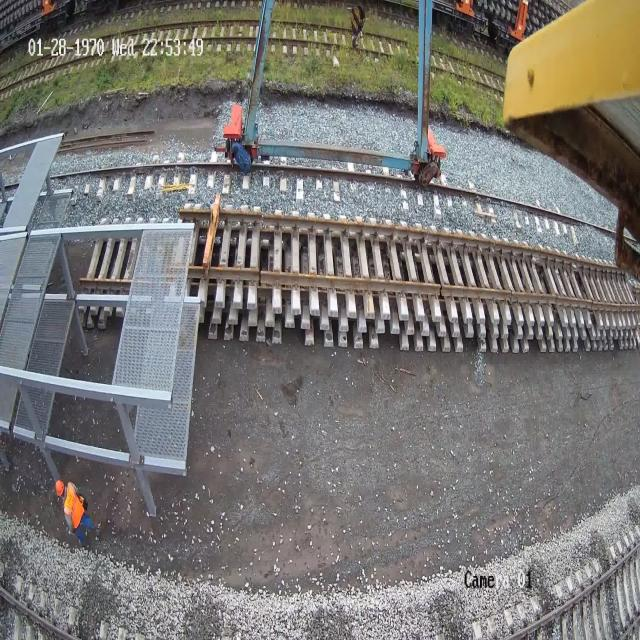Helmet: (55, 479, 64, 496)
Person: (55, 479, 96, 547)
